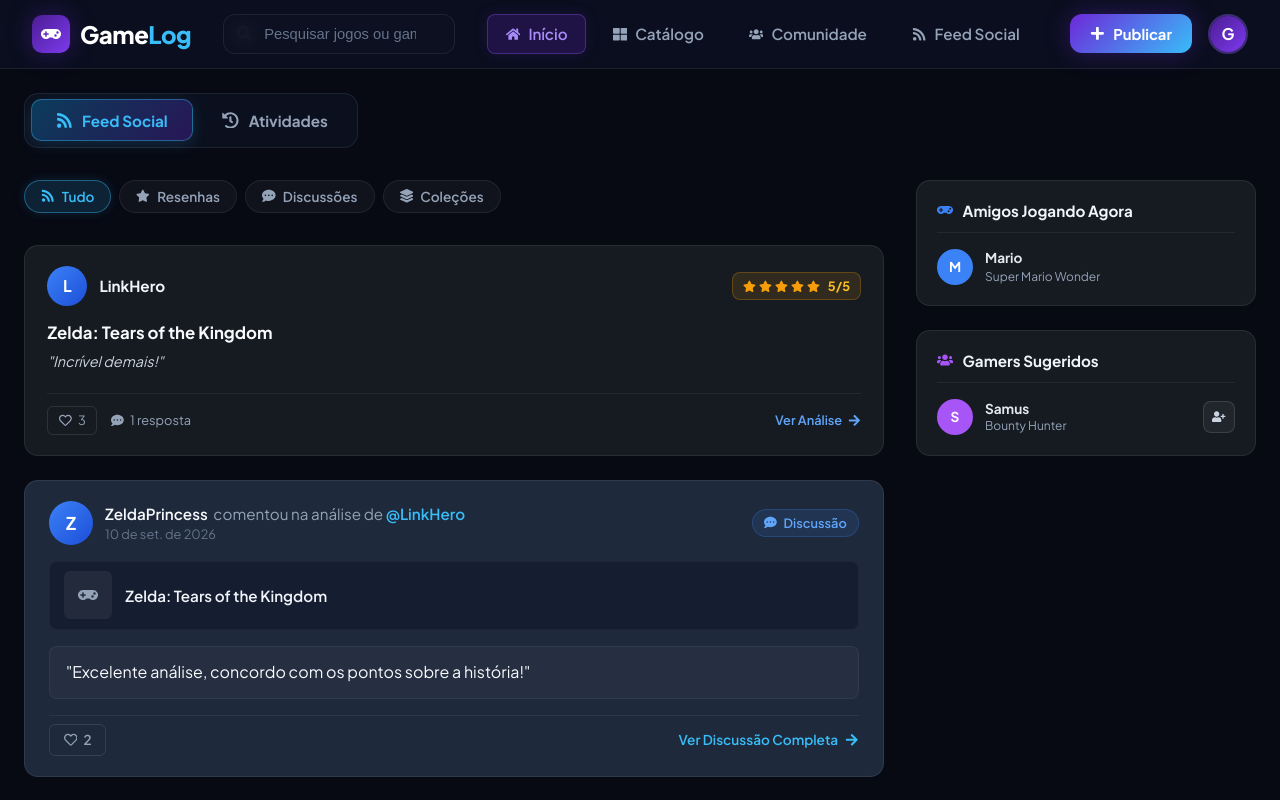
Test case: PaginaFeedSocial Component › deve filtrar por Discussões ao clicar no filtro
The width and height of the screenshot is (1280, 800).
Expected: the link "ZeldaPrincess" is shown, [105, 504, 208, 523]
Click the button with test id "filter-discussoes" at (310, 196), box [245, 180, 375, 213]
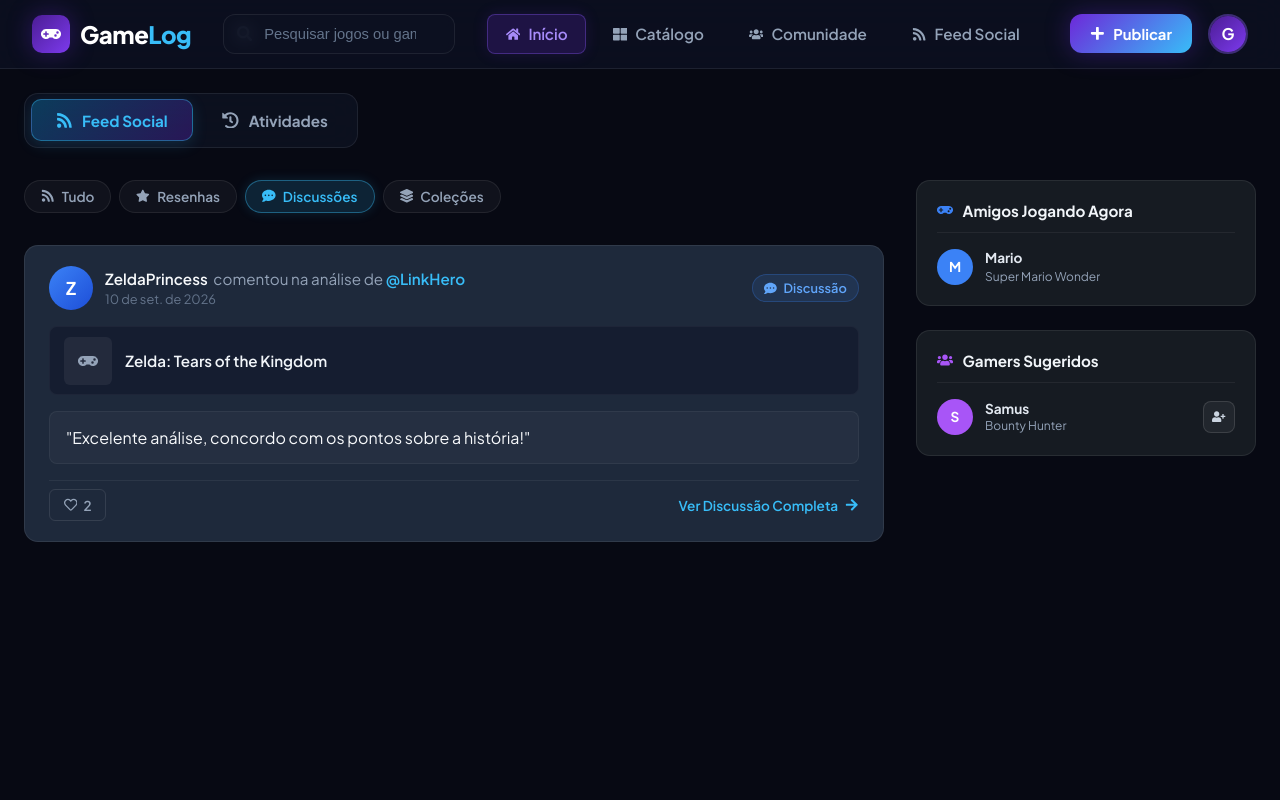
Expected: the text "Excelente análise, concordo com os pontos" is shown, [66, 427, 530, 448]
Result: the link "Incrível demais!" is gone
